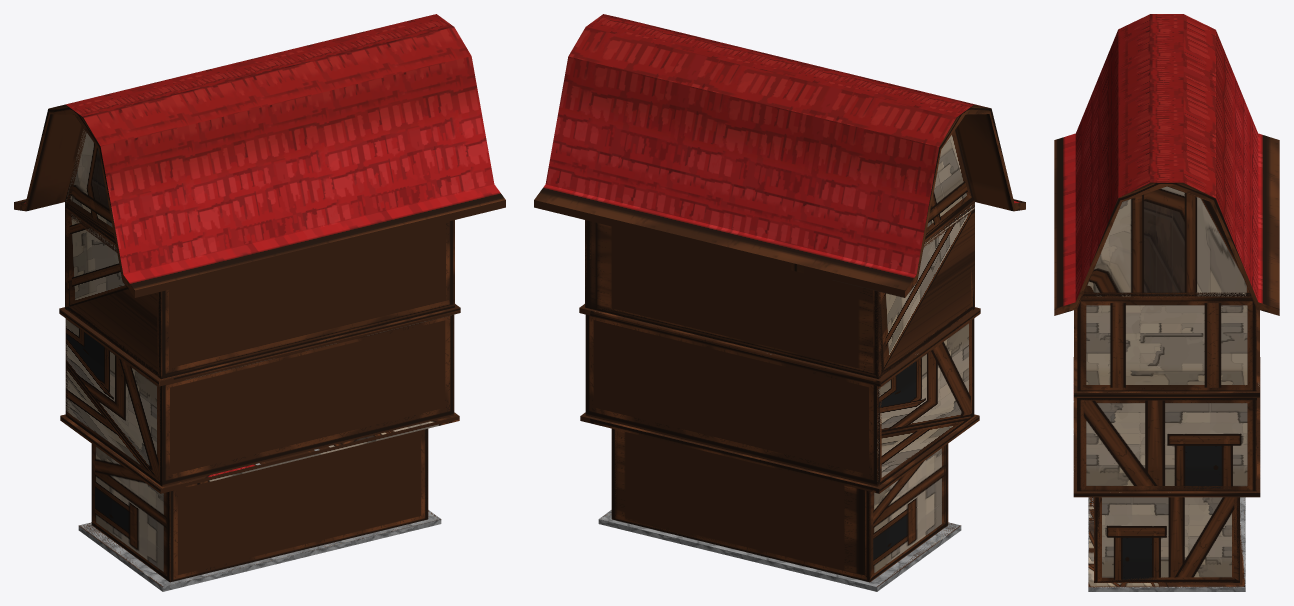
File: House Base3_D.fbx
The picture shows the model from 3 angles, left to right: view 1: azimuth 30°, elevation 25°; view 2: azimuth 150°, elevation 25°; view 3: azimuth 270°, elevation 25°; orthographic projection. The views are drawn at different scales.
Parts seen in each view (by area): view 1: House Base 3d, House Base 3d_col; view 2: House Base 3d, House Base 3d_col; view 3: House Base 3d_col, House Base 3d.
Boxes of the visible parts, box(x1,y1,x2,y2) form: House Base 3d: box(14, 14, 505, 591); House Base 3d_col: box(65, 129, 458, 585); House Base 3d: box(534, 14, 1025, 591); House Base 3d_col: box(581, 128, 978, 583); House Base 3d_col: box(1073, 186, 1260, 587); House Base 3d: box(1054, 14, 1279, 591).
Size of the model in its own units: 1520 by 1807 by 857.
